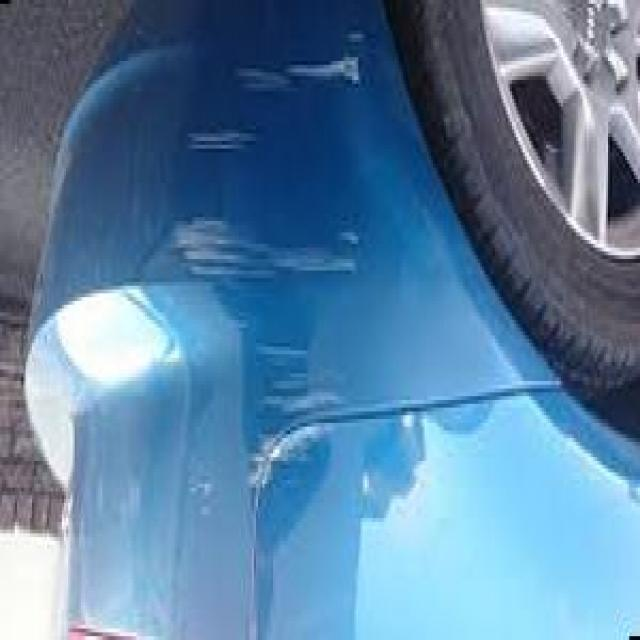scratch: (150, 24, 366, 540)
